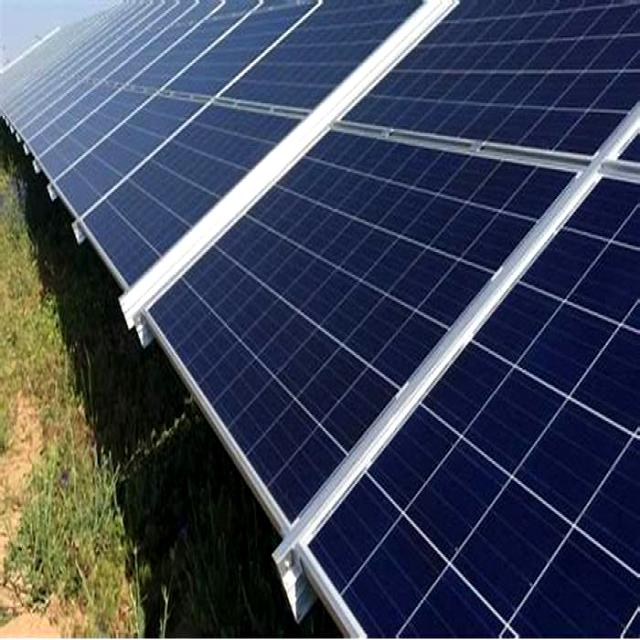crack: (318, 129, 583, 410), (422, 351, 632, 610), (154, 220, 388, 450), (337, 445, 590, 640), (438, 4, 640, 216), (316, 135, 448, 304)
